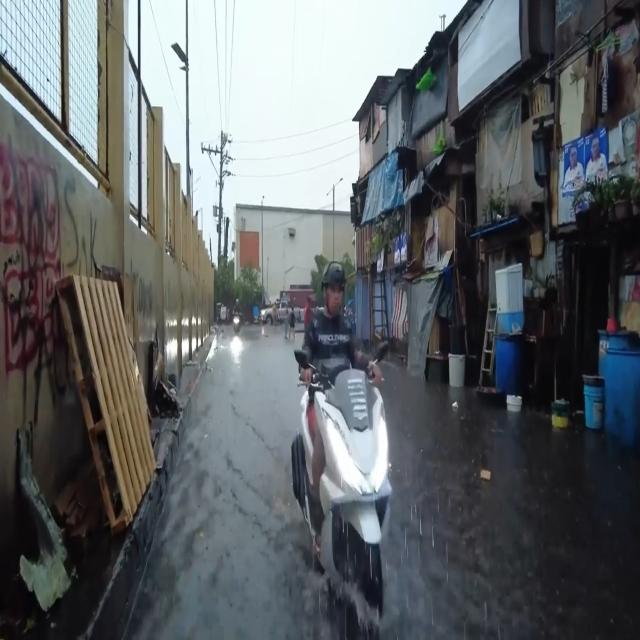invalid: (322, 261, 346, 286)
